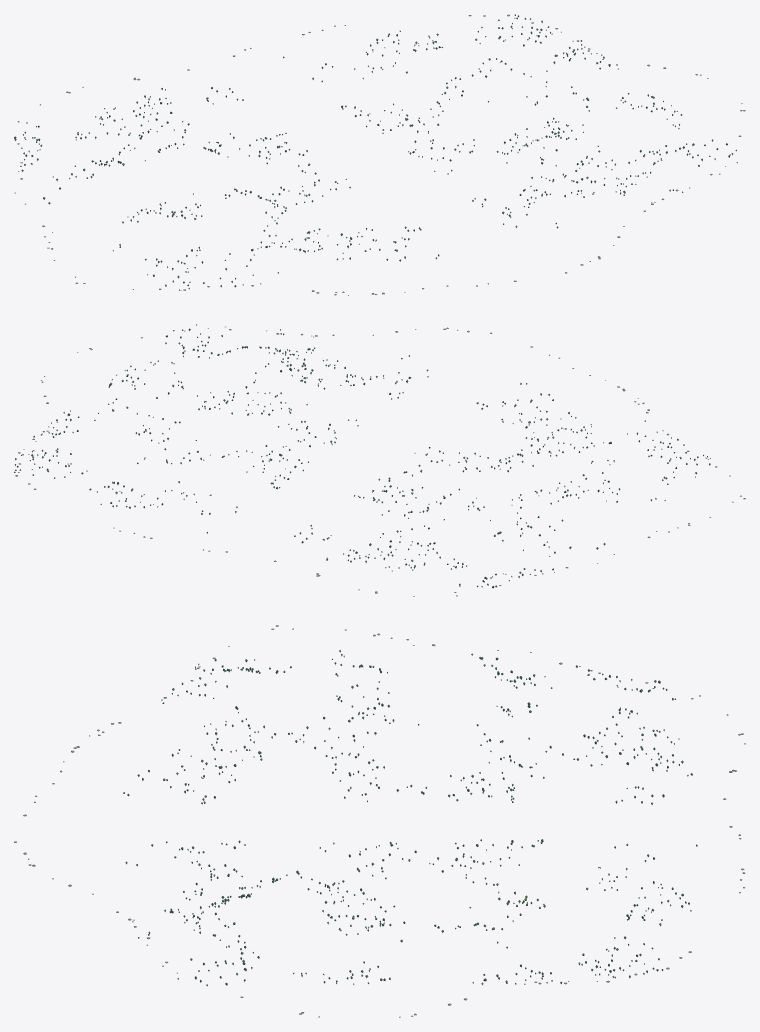
File: island-vegetation.glb
3 views of the same model, one above another, from view 1: azimuth 30°, elevation 25°; view 2: azimuth 150°, elevation 25°; view 3: azimuth 270°, elevation 25° (orthographic). The views are drawn at different scales.
Visible parts, largest first — view 1: Visual_Coastal evergreen dark, Visual_Coastal evergreen sunlit, Visual_Coastal evergreen mid; view 2: Visual_Coastal evergreen mid, Visual_Coastal evergreen sunlit, Visual_Coastal evergreen dark; view 3: Visual_Coastal evergreen mid, Visual_Coastal evergreen sunlit, Visual_Coastal evergreen dark.
Part boxes in pixels (bbox=[...]): Visual_Coastal evergreen dark: bbox=[14, 14, 729, 290]; Visual_Coastal evergreen sunlit: bbox=[21, 15, 737, 287]; Visual_Coastal evergreen mid: bbox=[14, 18, 736, 290]; Visual_Coastal evergreen mid: bbox=[14, 329, 710, 587]; Visual_Coastal evergreen sunlit: bbox=[15, 324, 710, 581]; Visual_Coastal evergreen dark: bbox=[14, 328, 707, 588]; Visual_Coastal evergreen mid: bbox=[128, 654, 697, 985]; Visual_Coastal evergreen sunlit: bbox=[123, 650, 691, 984]; Visual_Coastal evergreen dark: bbox=[127, 658, 697, 985].
Size of the model in its own units: 8386 by 437 by 6614.
